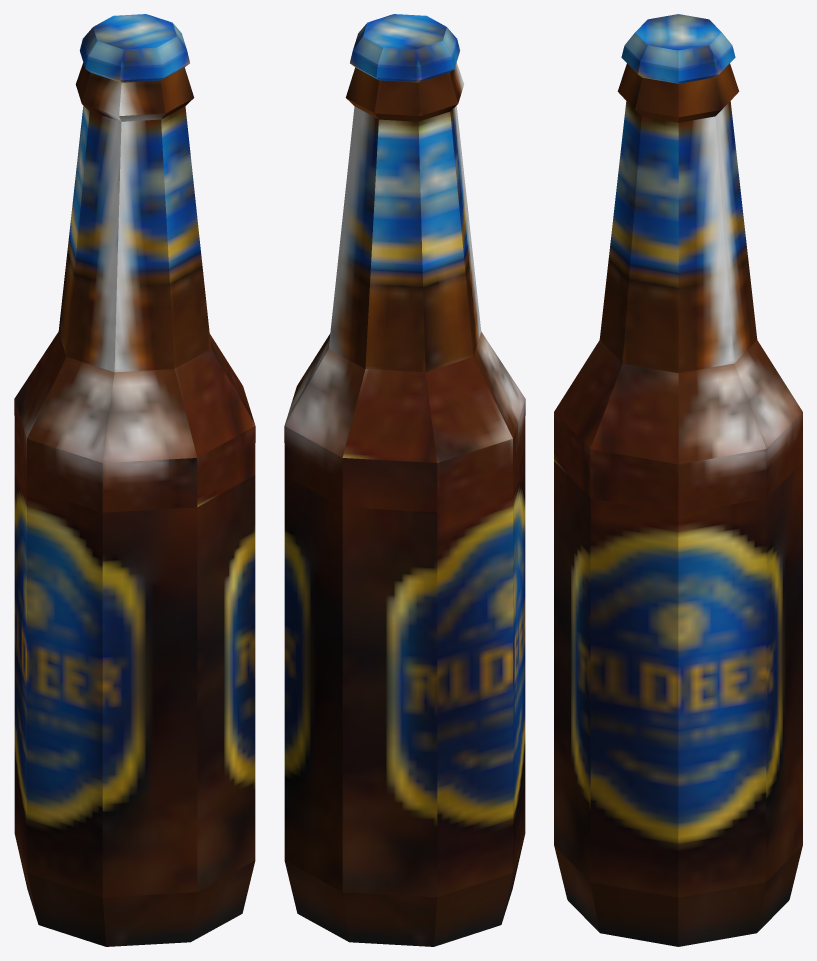
The model's file is Glass_Beer_2.fbx.
3 renders of one model, left to right at view 1: azimuth 30°, elevation 25°; view 2: azimuth 150°, elevation 25°; view 3: azimuth 270°, elevation 25°, orthographic.
Visible parts, largest first — view 1: Glass_Beer; view 2: Glass_Beer; view 3: Glass_Beer.
Part boxes in pixels (x1,y1,x2,y2): Glass_Beer: (14,14,255,946); Glass_Beer: (284,14,525,946); Glass_Beer: (554,14,802,946).
Size of the model in its own units: 116 by 445 by 116.
1 material, 1 textured.
